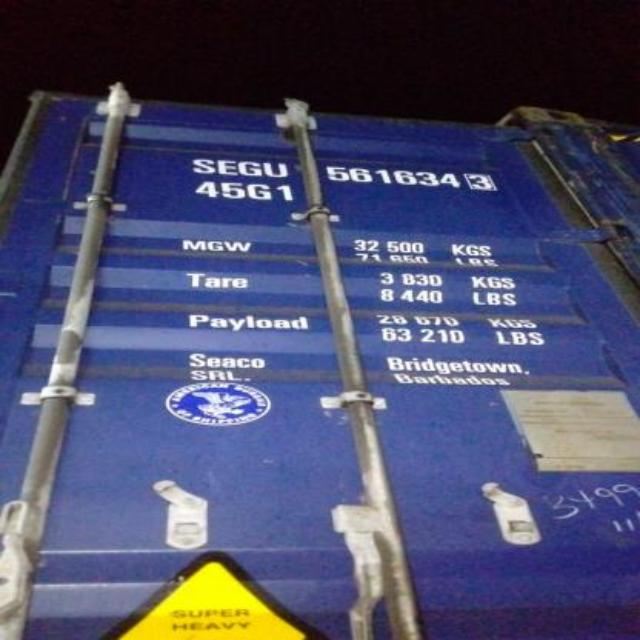1: (374, 165, 396, 191)
3: (415, 166, 439, 190), (464, 172, 494, 190)
4: (439, 164, 463, 188)
5: (324, 160, 348, 186)
6: (392, 165, 416, 191), (351, 161, 375, 185)
E: (218, 152, 238, 176)
G: (240, 156, 264, 180)
S: (192, 153, 218, 177)
U: (261, 154, 291, 182)
